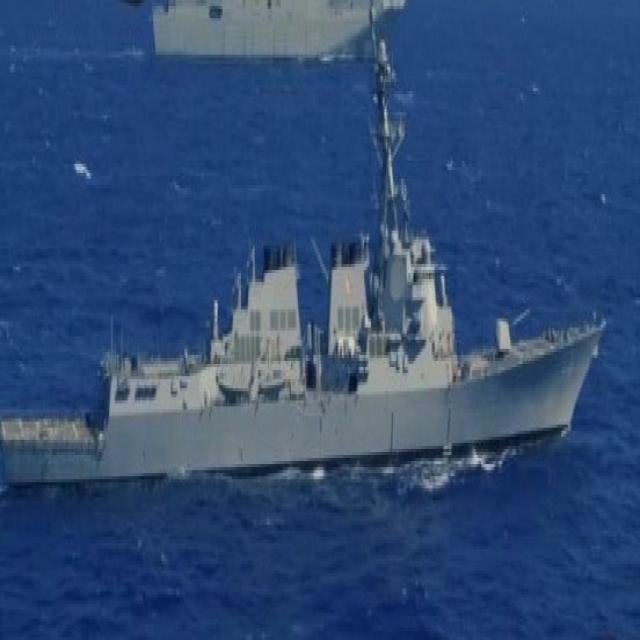navalvessels: (6, 118, 609, 501)
